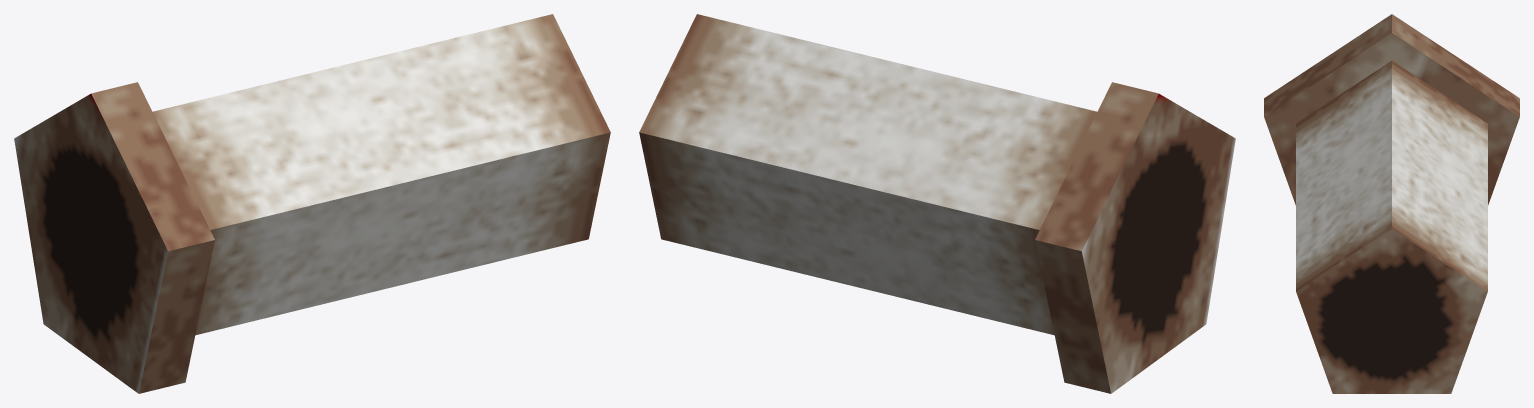
Rendered from short.glb.
3 renders of one model, left to right at view 1: azimuth 30°, elevation 25°; view 2: azimuth 150°, elevation 25°; view 3: azimuth 270°, elevation 25°, orthographic. The views are drawn at different scales.
Parts seen in each view (by area): view 1: Pipe Short; view 2: Pipe Short; view 3: Pipe Short.
Boxes of the visible parts, x1,y1,x2,y2 form: Pipe Short: (14, 14, 610, 393); Pipe Short: (639, 14, 1235, 393); Pipe Short: (1264, 14, 1519, 393).
Size of the model in its own units: 0.4938 by 0.2714 by 0.2853.
1 material, 1 textured.
